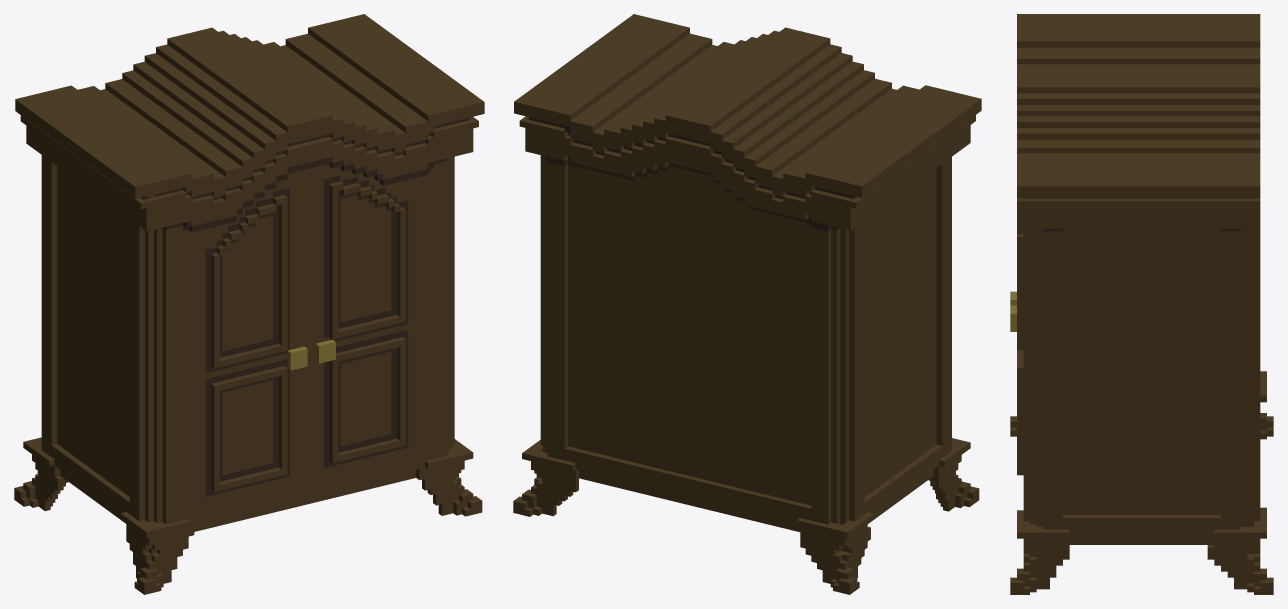
Rendered from closet.fbx.
3 renders of one model, left to right at view 1: azimuth 30°, elevation 25°; view 2: azimuth 150°, elevation 25°; view 3: azimuth 270°, elevation 25°, orthographic.
Parts seen in each view (by area): view 1: Untitled, Untitled.001, Untitled.002; view 2: Untitled; view 3: Untitled, Untitled.002.
Boxes of the visible parts, x1,y1,x2,y2 form: Untitled: (14,14,484,594); Untitled.001: (188,169,307,518); Untitled.002: (307,163,424,489); Untitled: (513,14,981,594); Untitled: (1010,14,1273,594); Untitled.002: (1010,228,1023,475).
Bounding box in the file's own units: 620 × 730 × 400.
Materials: 3 (3 with a texture image).
